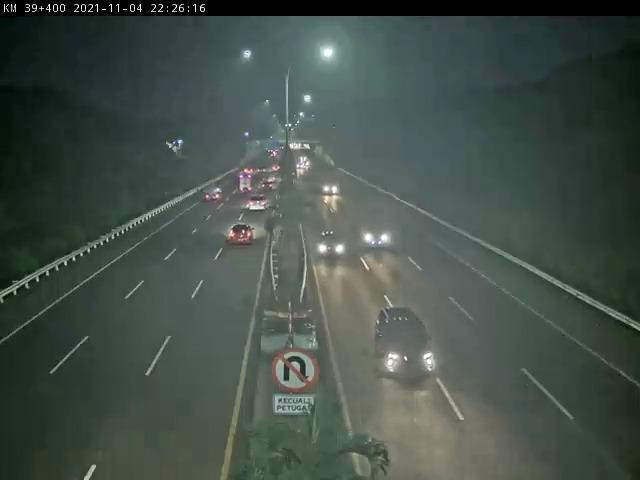car: (377, 306, 438, 389), (363, 222, 400, 253), (314, 229, 344, 266), (228, 220, 263, 251), (250, 200, 269, 215)
